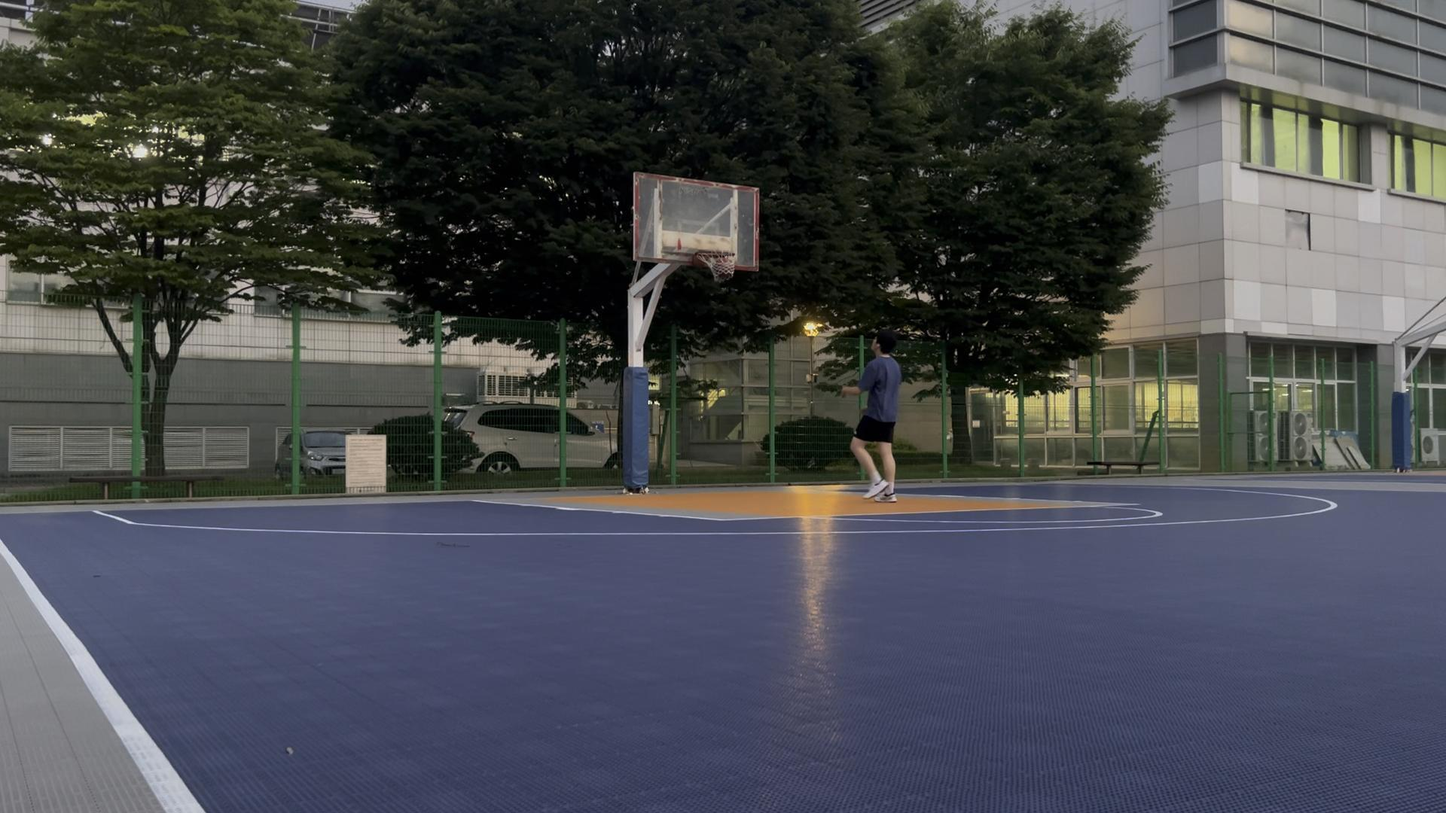ball: (712, 257, 734, 279)
human: (840, 329, 903, 504)
rim: (694, 249, 736, 284)
